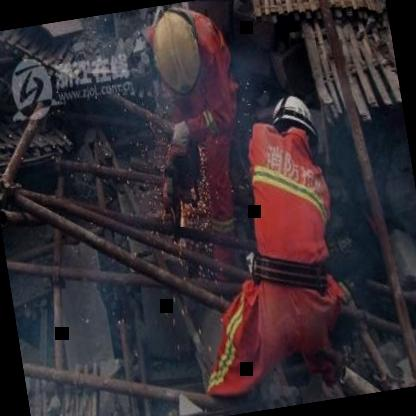helmet: (147, 10, 213, 100), (266, 90, 320, 160)
